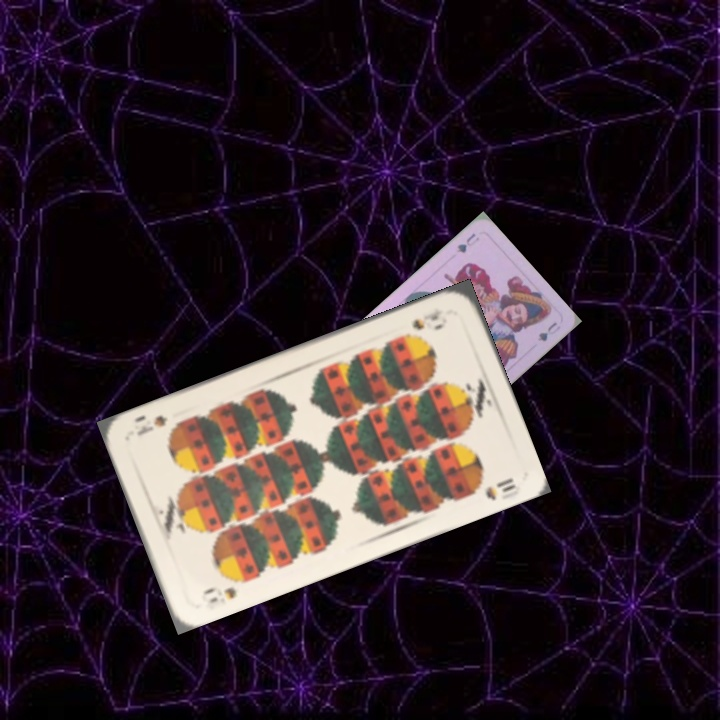GU: (453, 229, 482, 256)
S10: (408, 303, 445, 333), (199, 582, 240, 606)
